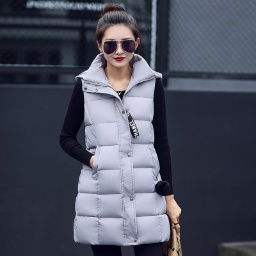face: (90, 5, 144, 74)
